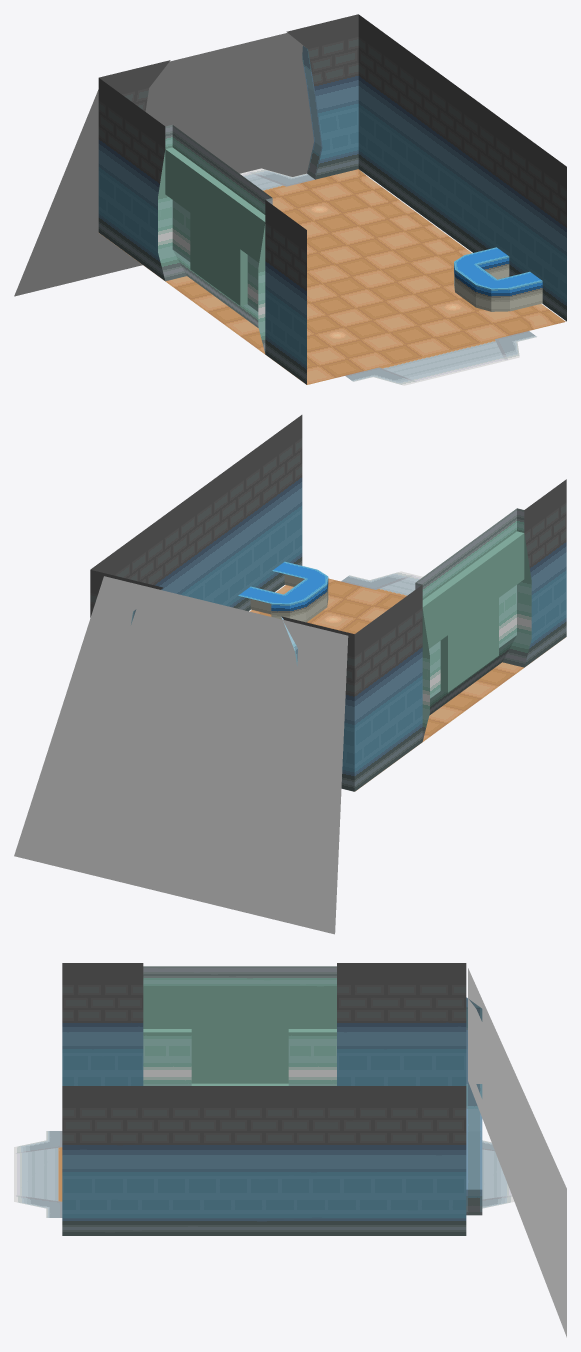
The model's file is GateInside.fbx.
The picture shows the model from 3 angles, top to bottom: view 1: azimuth 30°, elevation 25°; view 2: azimuth 150°, elevation 25°; view 3: azimuth 270°, elevation 25°; orthographic projection. The views are drawn at different scales.
Parts seen in each view (by area): view 1: polygon2, polygon5, polygon8, polygon7, polygon6, polygon1, polygon4; view 2: polygon8, polygon2, polygon7, polygon5, polygon1, polygon6; view 3: polygon2, polygon7, polygon8, polygon6, polygon4.
Boxes of the visible parts, bbox=[...] form: polygon2: bbox=[98, 14, 566, 384]; polygon5: bbox=[99, 169, 565, 384]; polygon8: bbox=[14, 33, 313, 296]; polygon7: bbox=[158, 124, 272, 353]; polygon6: bbox=[240, 168, 536, 385]; polygon1: bbox=[454, 247, 542, 311]; polygon4: bbox=[302, 46, 322, 179]; polygon8: bbox=[14, 576, 348, 934]; polygon2: bbox=[90, 415, 566, 791]; polygon7: bbox=[415, 508, 531, 740]; polygon5: bbox=[250, 578, 565, 790]; polygon1: bbox=[238, 561, 328, 622]; polygon6: bbox=[341, 571, 422, 596]; polygon2: bbox=[62, 963, 466, 1235]; polygon7: bbox=[143, 966, 336, 1085]; polygon8: bbox=[468, 968, 566, 1337]; polygon6: bbox=[14, 1131, 514, 1217]; polygon4: bbox=[466, 997, 482, 1215].
Bounding box in the file's own units: 1.37 × 1.03 × 2.14.
